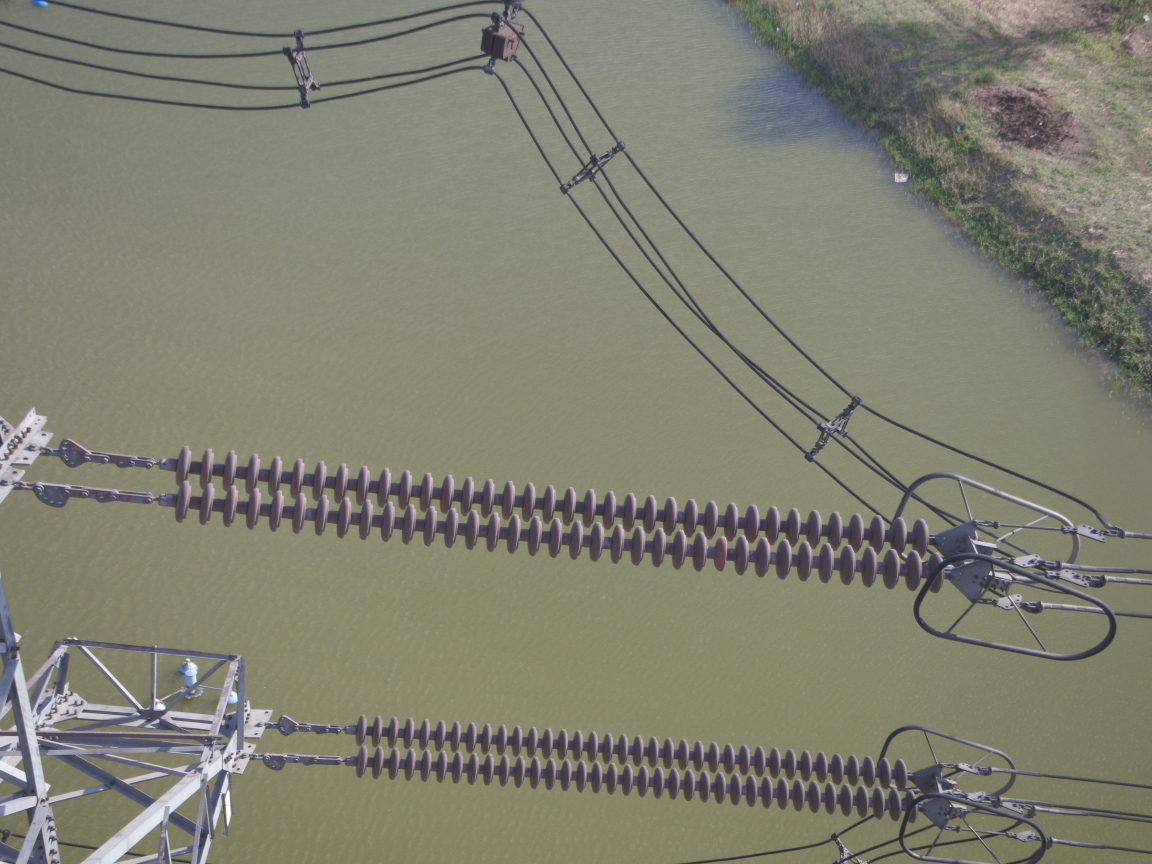insulator: (115, 441, 964, 594), (322, 711, 934, 823)
